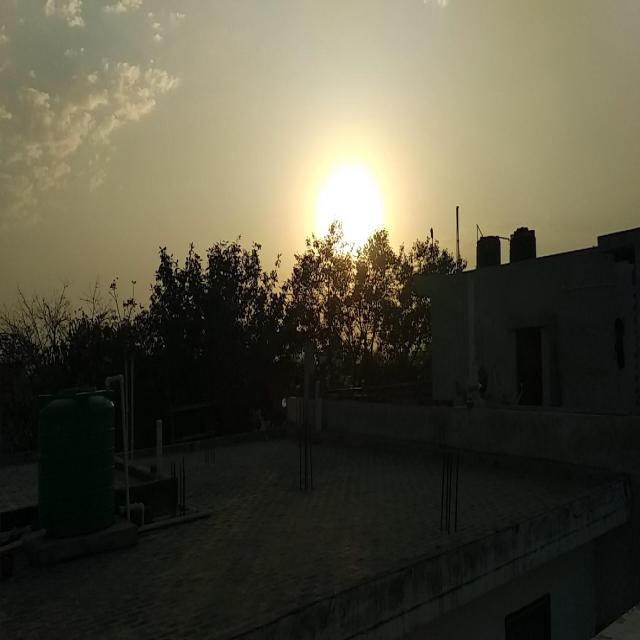other: (290, 126, 402, 291)
